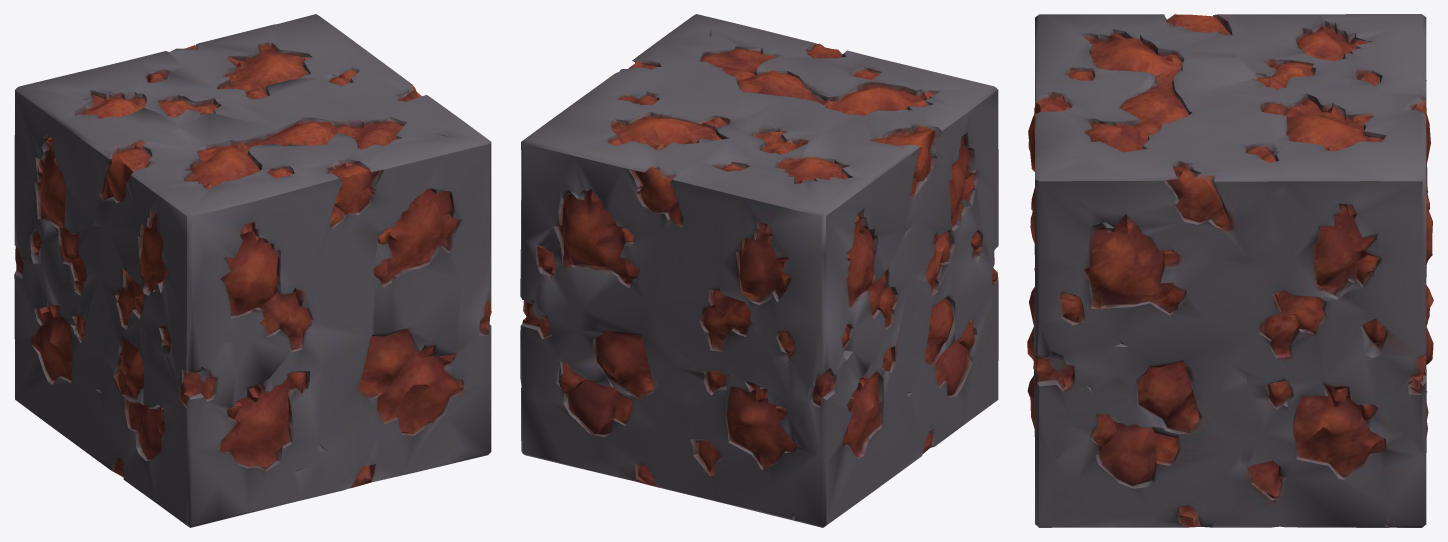
The model's file is block_metal_idle.glb.
3 renders of one model, left to right at view 1: azimuth 30°, elevation 25°; view 2: azimuth 150°, elevation 25°; view 3: azimuth 270°, elevation 25°, orthographic. The views are drawn at different scales.
Visible parts, largest first — view 1: tripo_node_83afa9ff-243e-485a-8ae8-8a20d8747440; view 2: tripo_node_83afa9ff-243e-485a-8ae8-8a20d8747440; view 3: tripo_node_83afa9ff-243e-485a-8ae8-8a20d8747440.
Boxes of the visible parts, x1,y1,x2,y2 form: tripo_node_83afa9ff-243e-485a-8ae8-8a20d8747440: [14, 14, 491, 527]; tripo_node_83afa9ff-243e-485a-8ae8-8a20d8747440: [520, 14, 998, 527]; tripo_node_83afa9ff-243e-485a-8ae8-8a20d8747440: [1027, 14, 1433, 527].
Bounding box in the file's own units: 1 × 1 × 1.
Materials: 1 (1 with a texture image).
